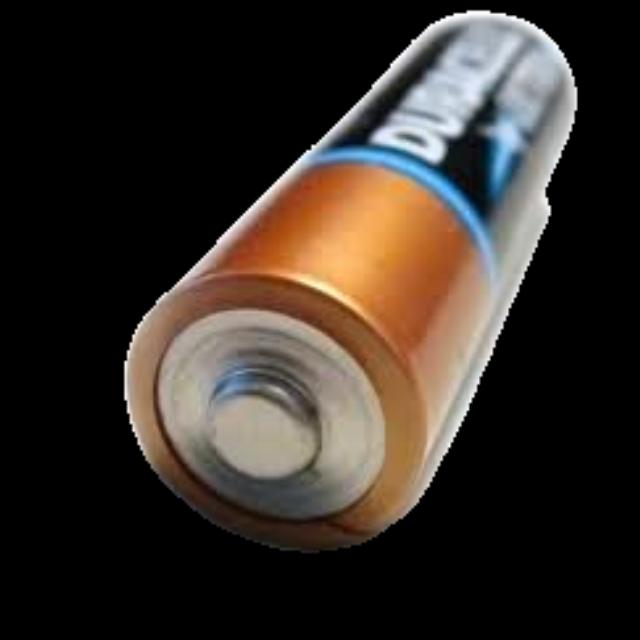Battery: (121, 13, 579, 558)
